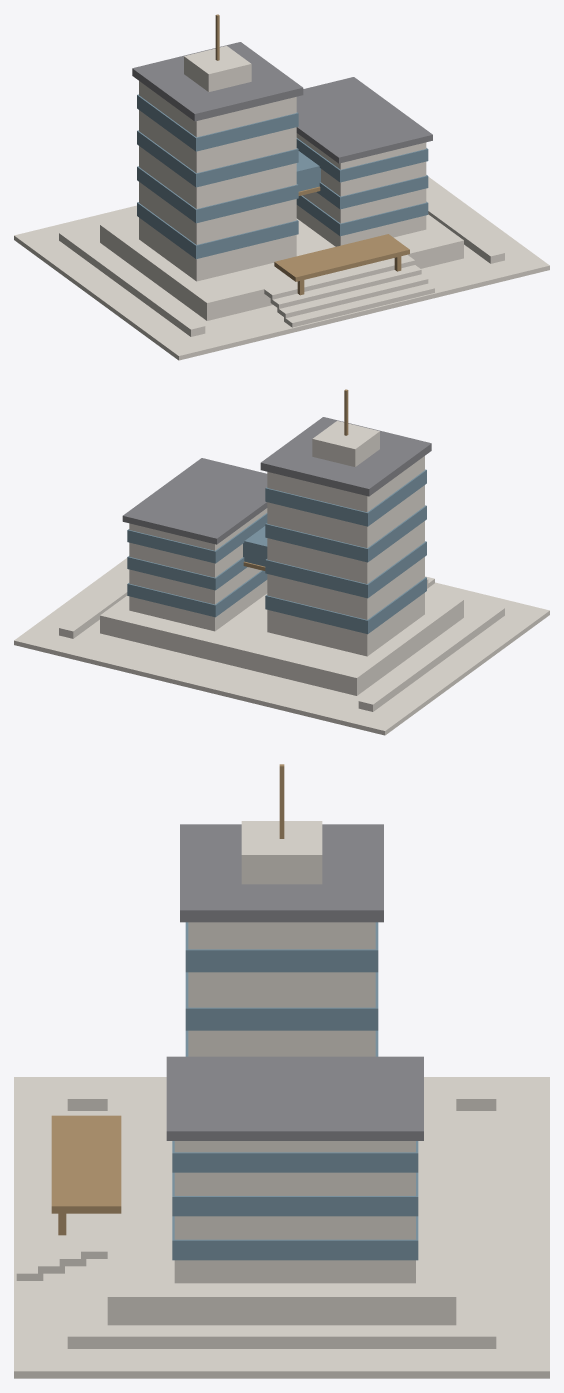
File: demo.glb
The picture shows the model from 3 angles, top to bottom: view 1: azimuth 30°, elevation 25°; view 2: azimuth 150°, elevation 25°; view 3: azimuth 270°, elevation 25°; orthographic projection. The views are drawn at different scales.
Visible parts, largest first — view 1: DemoBuilding; view 2: DemoBuilding; view 3: DemoBuilding.
Boxes of the visible parts, x1=… form: DemoBuilding: x1=14, y1=14, x2=549, y2=360; DemoBuilding: x1=14, y1=389, x2=549, y2=735; DemoBuilding: x1=14, y1=764, x2=549, y2=1378.
Size of the model in its own units: 26 by 17.1 by 20.
